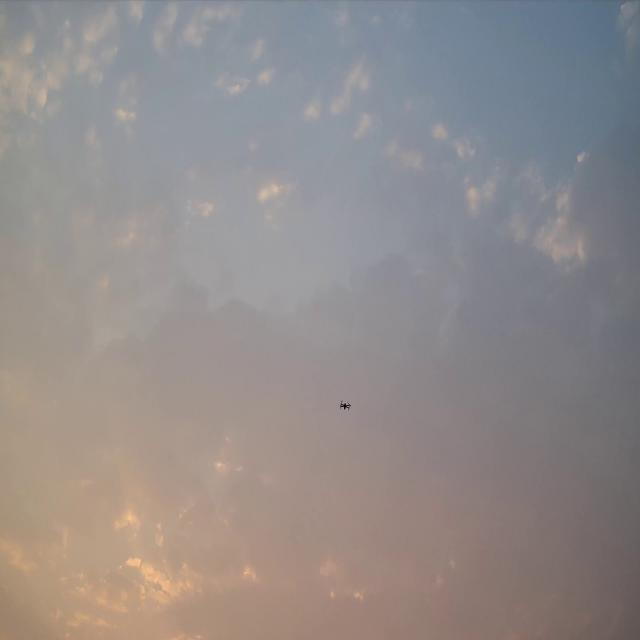UAV: (340, 399, 351, 411)
